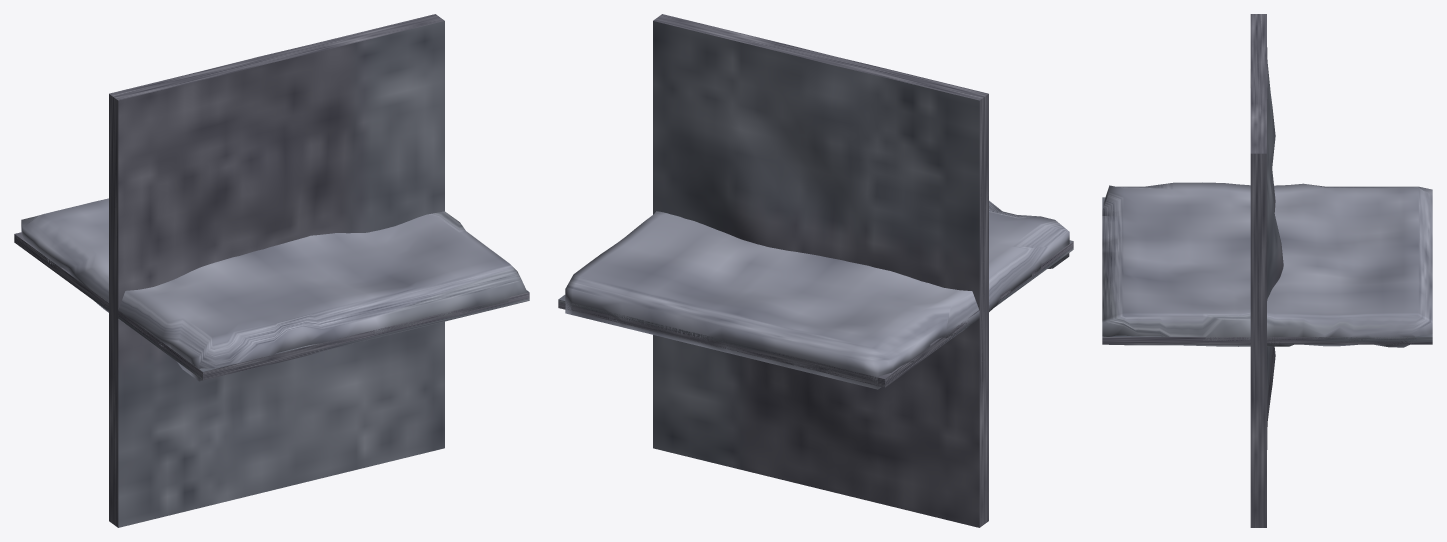
The model's file is Niflheim_Hall_Modules.glb.
3 views of the same model, side by side, from view 1: azimuth 30°, elevation 25°; view 2: azimuth 150°, elevation 25°; view 3: azimuth 270°, elevation 25° (orthographic). The views are drawn at different scales.
Parts seen in each view (by area): view 1: Hall wall module, Hall ceiling module, Hall floor module; view 2: Hall wall module, Hall ceiling module, Hall floor module; view 3: Hall ceiling module, Hall wall module, Hall floor module.
Part boxes in pixels (left/top/right/bottom): Hall wall module: left=109, top=14, right=444, bottom=527; Hall ceiling module: left=21, top=198, right=527, bottom=381; Hall floor module: left=14, top=232, right=529, bottom=380; Hall wall module: left=653, top=14, right=988, bottom=527; Hall ceiling module: left=565, top=200, right=1069, bottom=389; Hall floor module: left=558, top=240, right=1073, bottom=387; Hall ceiling module: left=1102, top=182, right=1432, bottom=347; Hall wall module: left=1250, top=14, right=1283, bottom=527; Hall floor module: left=1102, top=197, right=1432, bottom=344.
Size of the model in its own units: 2 by 2.5 by 2.
Materials: 1 (1 with a texture image).
